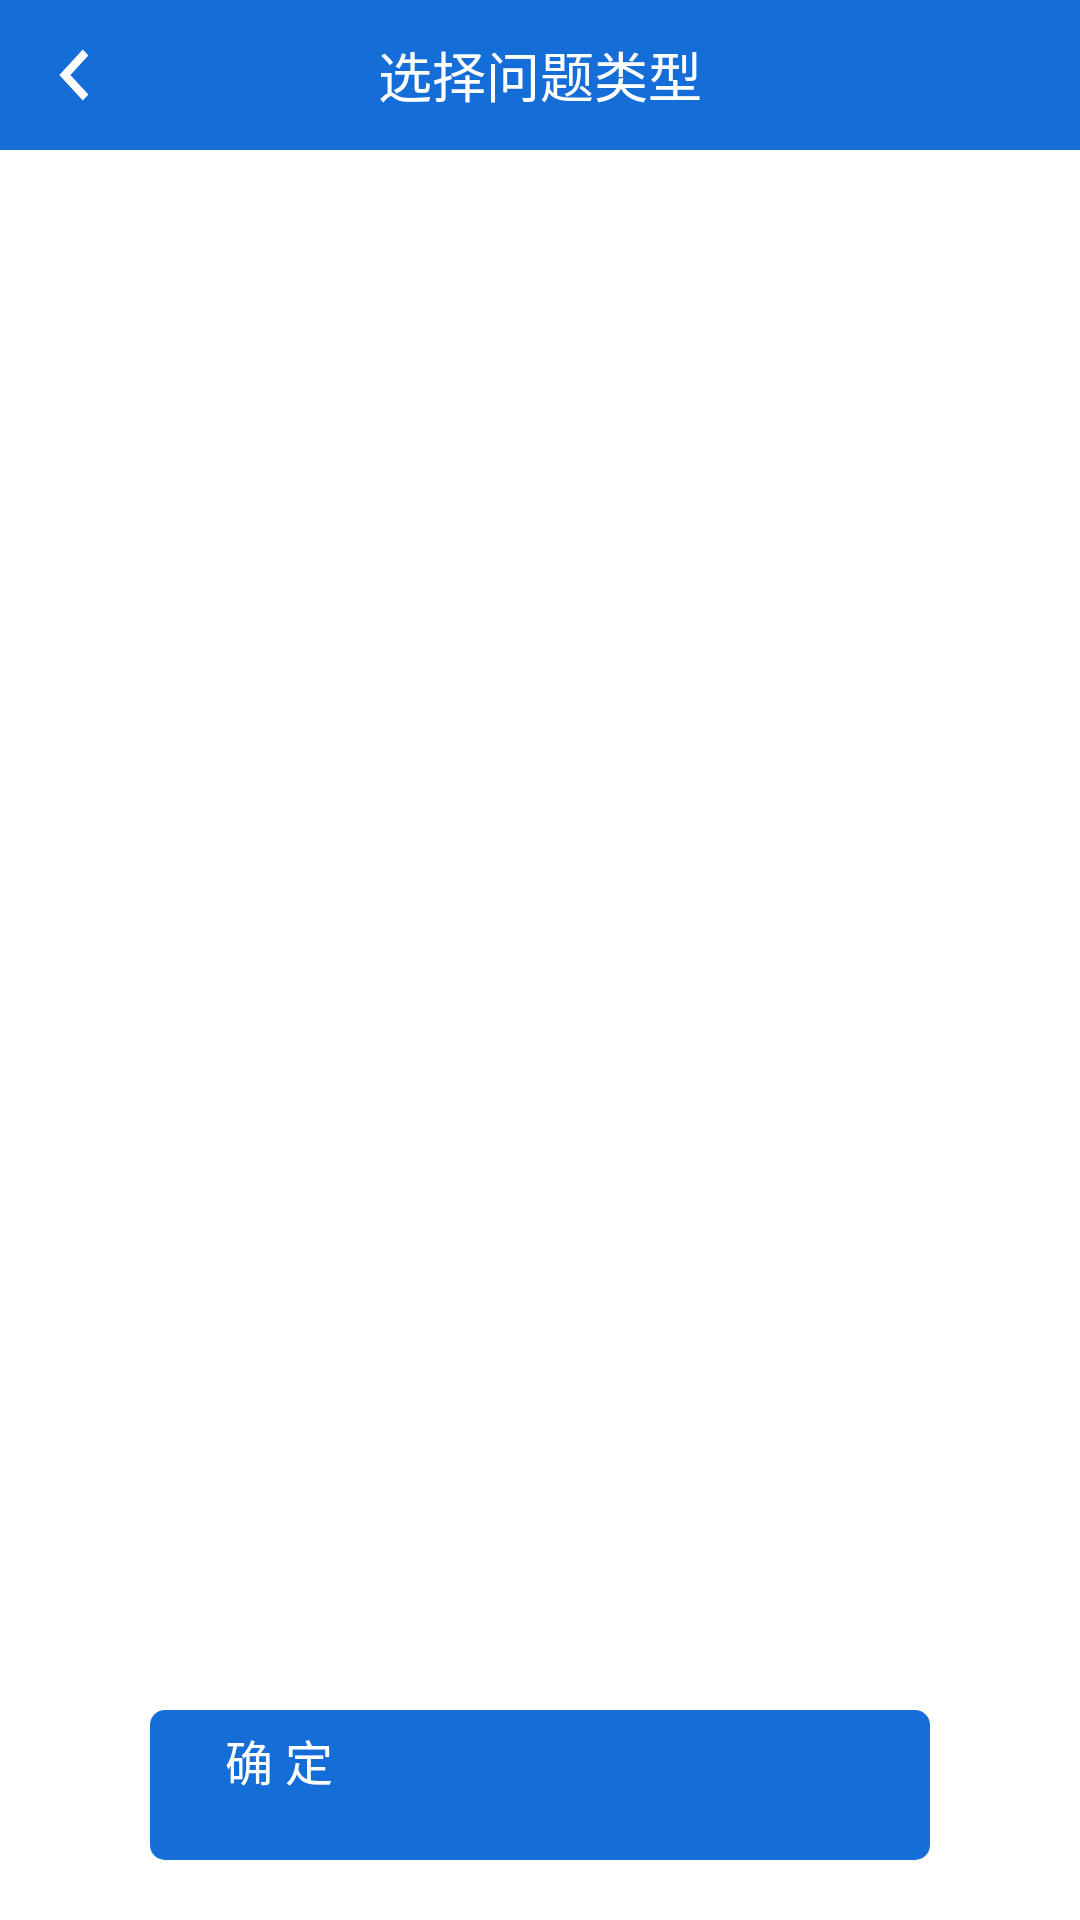

Icons on this 1080 × 1920 Android screen, each with the point to tap as point (x, y):
left: point (74, 75)
